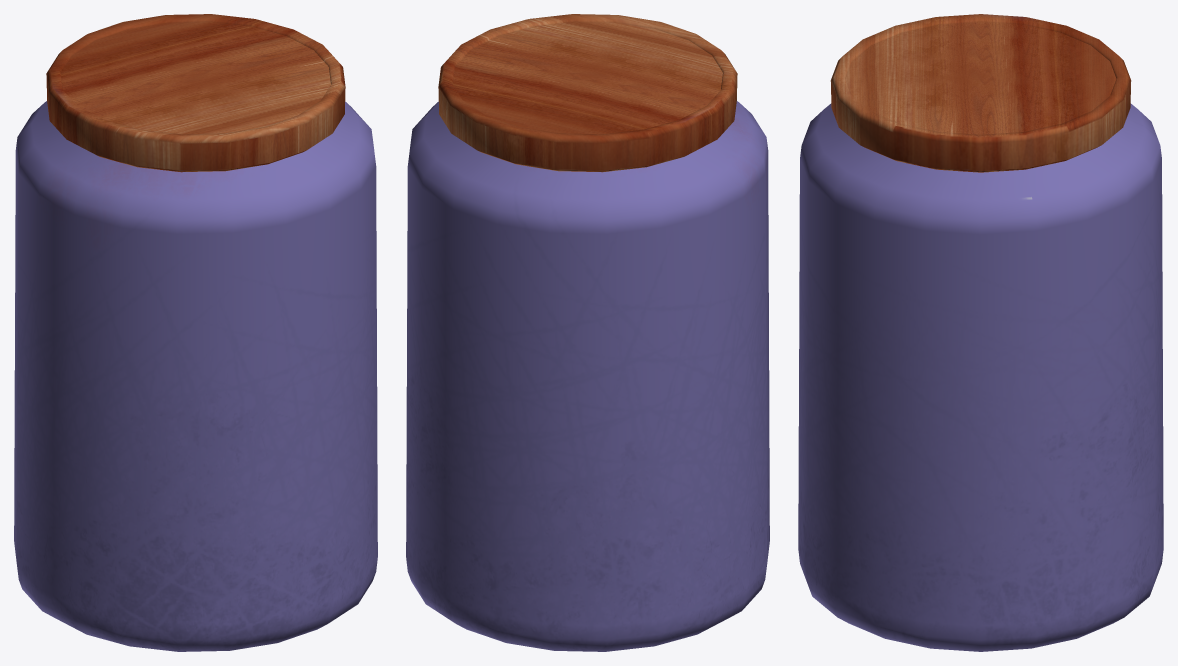
The picture shows the model from 3 angles, left to right: view 1: azimuth 30°, elevation 25°; view 2: azimuth 150°, elevation 25°; view 3: azimuth 270°, elevation 25°; orthographic projection.
Visible parts, largest first — view 1: pCylinder4; view 2: pCylinder4; view 3: pCylinder4.
Part boxes in pixels (box(x1,y1,x2,y2)): pCylinder4: box(14, 14, 377, 651); pCylinder4: box(406, 14, 769, 651); pCylinder4: box(798, 14, 1163, 651).
Bounding box in the file's own units: 35 × 53.6 × 35.
Materials: 1 (1 with a texture image).
